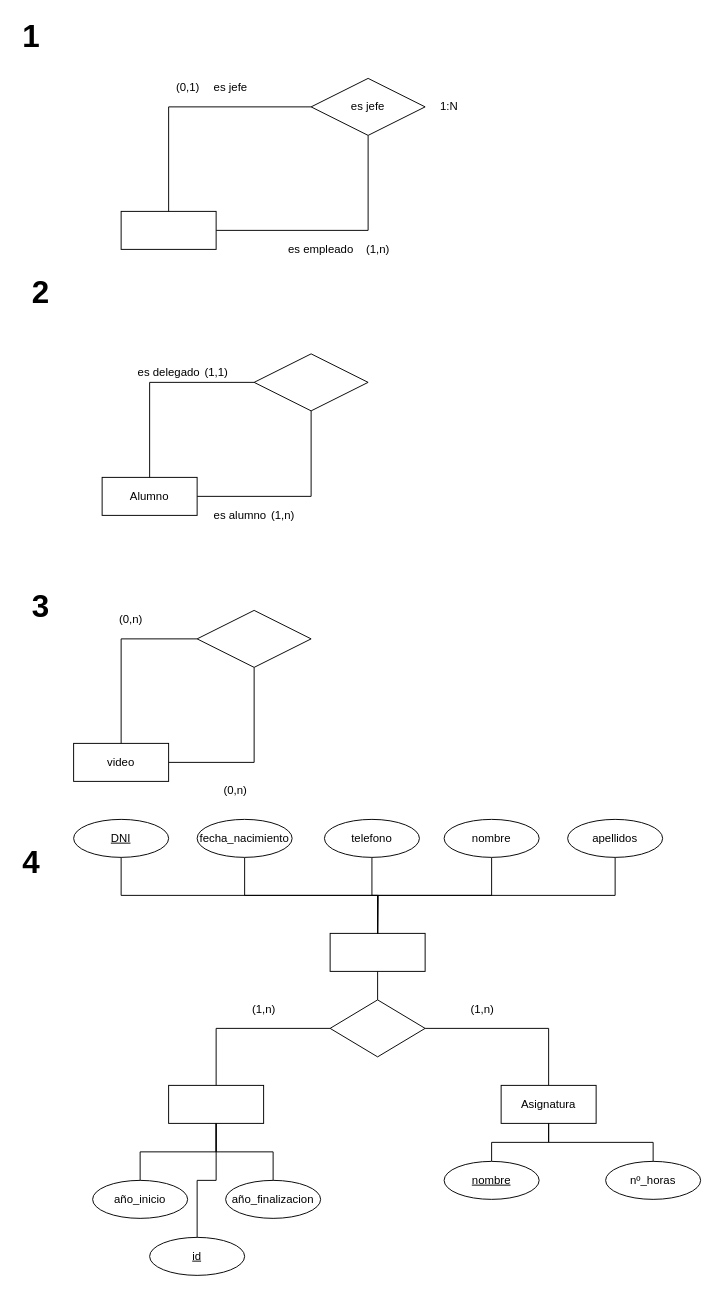
The diagram is 717 pixels wide and 1292 high, and some of its shapes have lost their labels. The shapes that lost their labels are listed below. From the top down, each one's centre as x and y in pixels, then its label:
At (168,229): "trabajador".
At (310,382): "delegado".
At (253,638): "relacionado".
At (377,951): "Alumnos".
At (377,1028): "tiene".
At (216,1103): "Curso".
